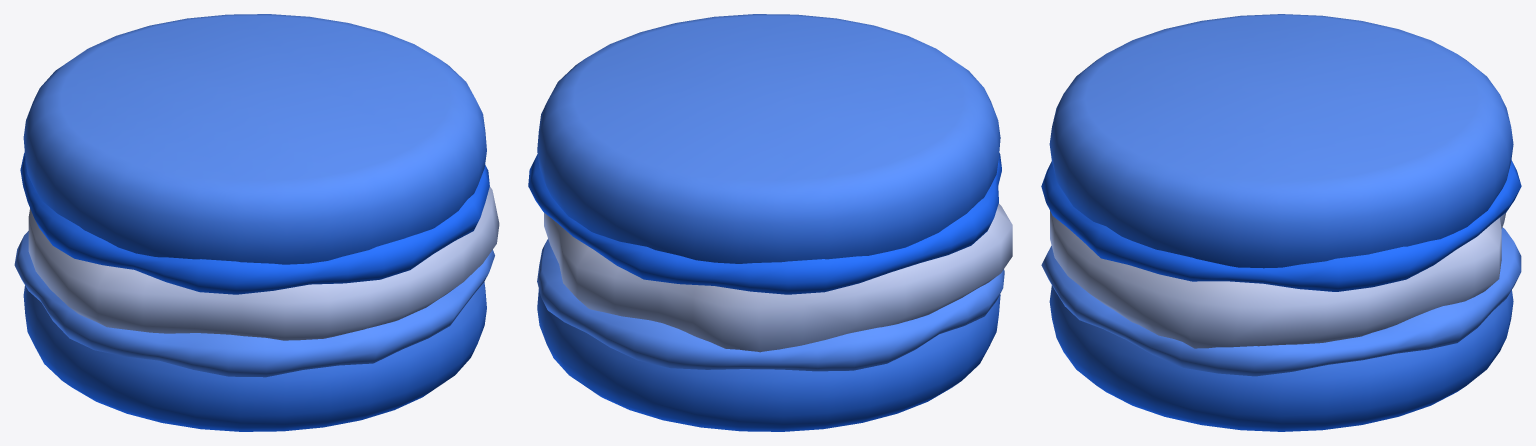
The model's file is SM_Blue.fbx.
3 views of the same model, side by side, from view 1: azimuth 30°, elevation 25°; view 2: azimuth 150°, elevation 25°; view 3: azimuth 270°, elevation 25° (orthographic).
Parts seen in each view (by area): view 1: macaron; view 2: macaron; view 3: macaron.
Part boxes in pixels (box(x1,y1,x2,y2)): macaron: box(14, 14, 499, 431); macaron: box(528, 14, 1012, 431); macaron: box(1041, 14, 1521, 431).
Bounding box in the file's own units: 0.5585 × 0.3241 × 0.5586.
Materials: 1 (1 with a texture image).
